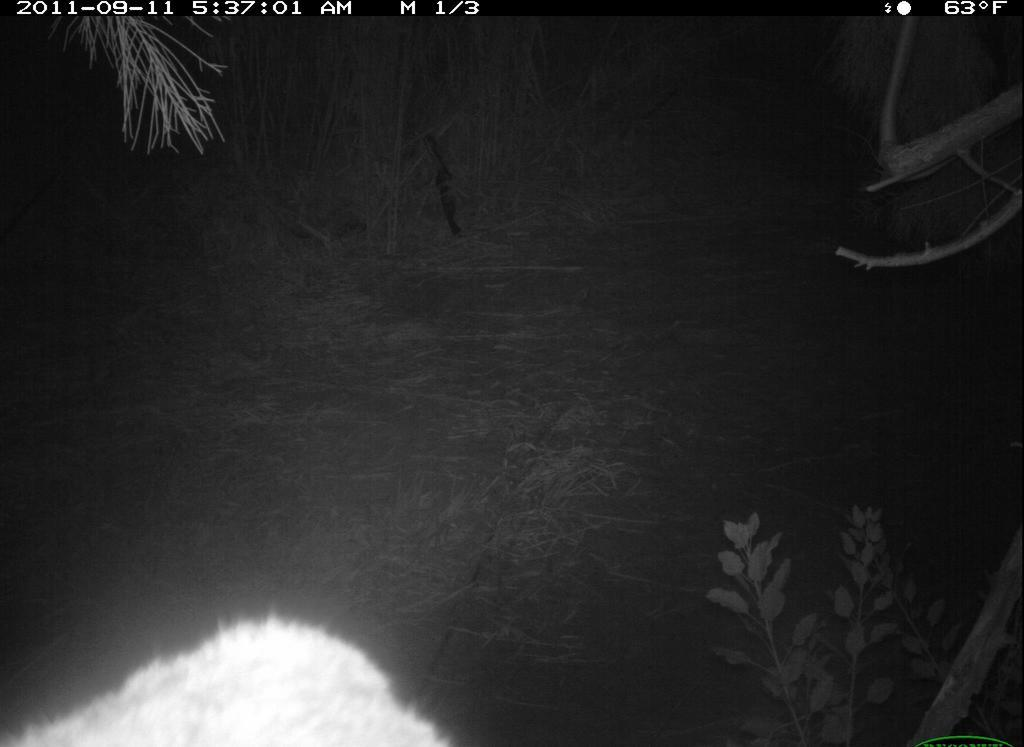bobcat: (13, 606, 482, 747)
